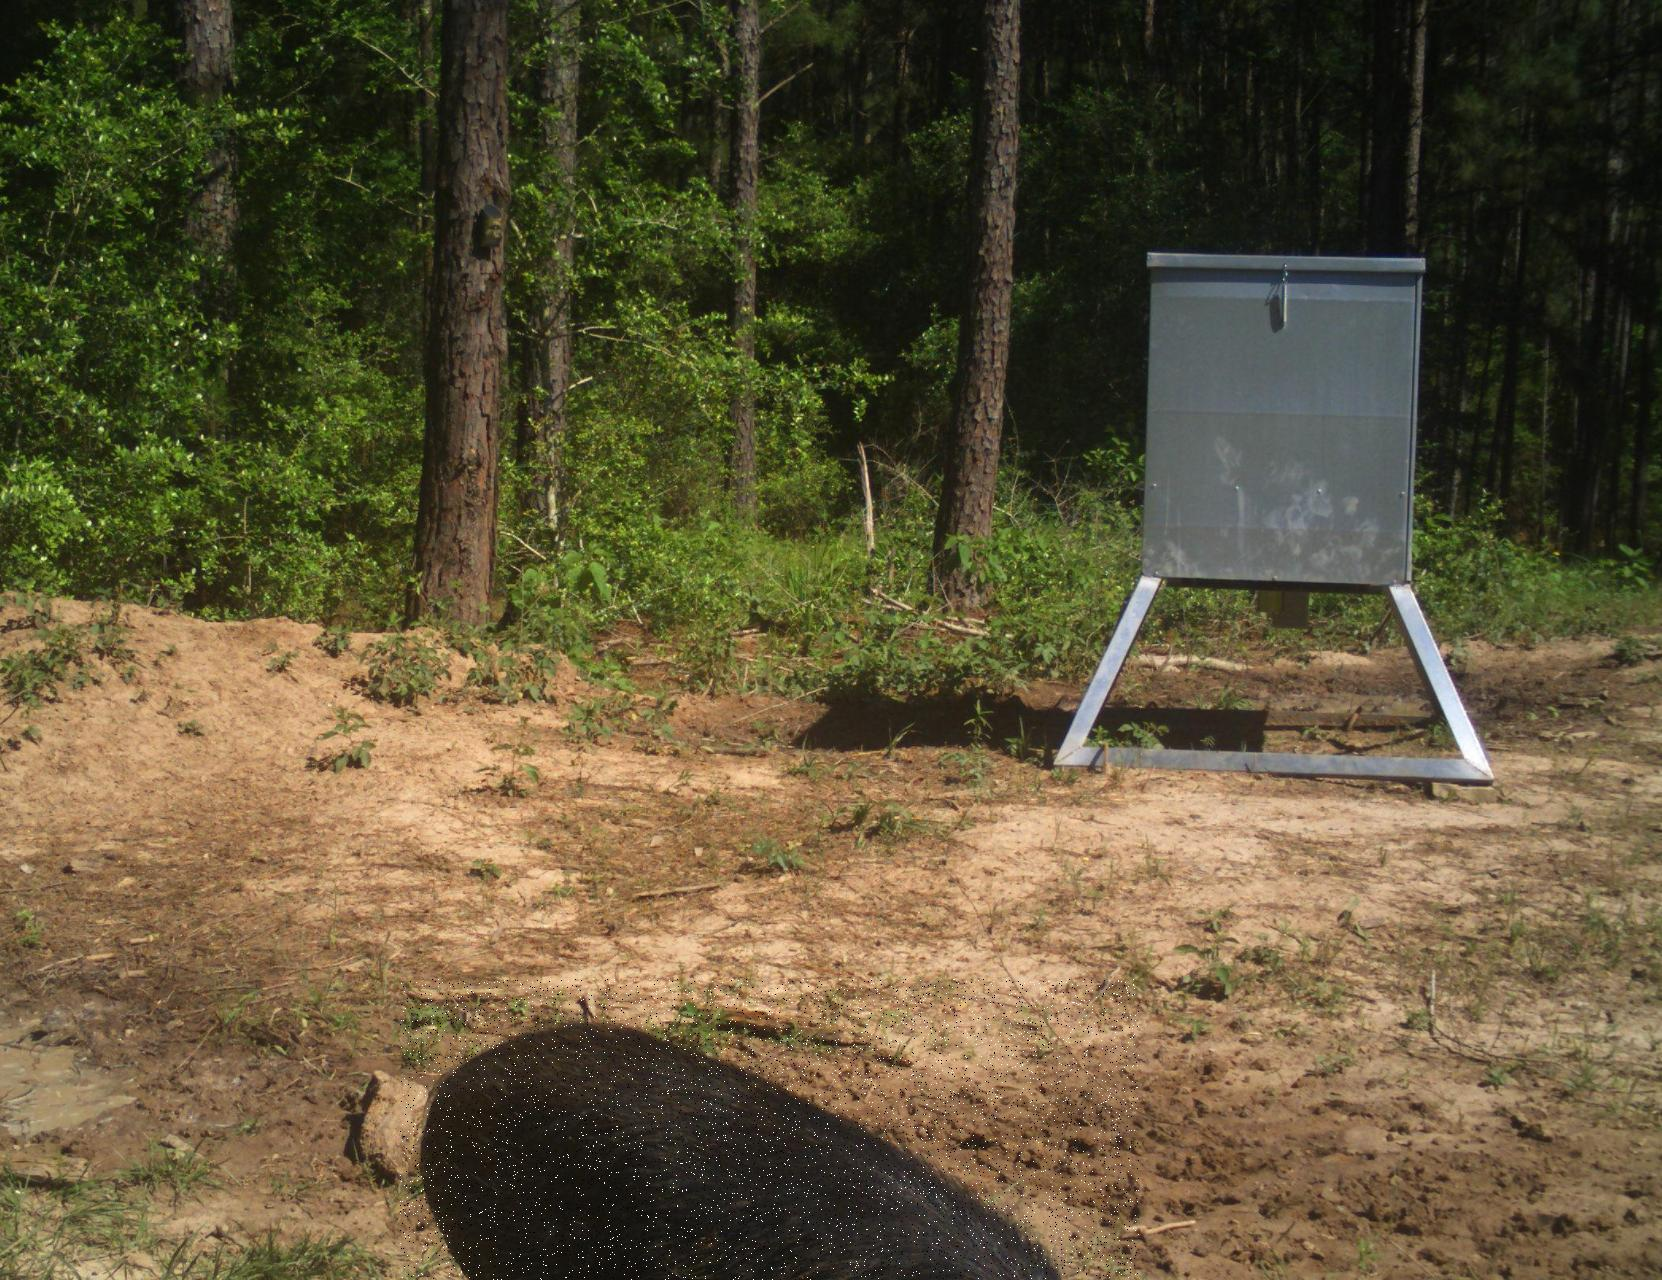Hog: (399, 979, 1139, 1280)
